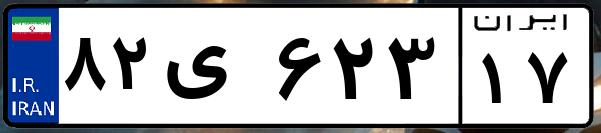1: (475, 38, 525, 113)
2: (330, 28, 385, 110), (110, 28, 158, 98)
3: (385, 28, 445, 110)
6: (270, 28, 330, 110)
7: (525, 38, 570, 115)
8: (57, 26, 110, 100)
ی: (158, 20, 270, 120)
